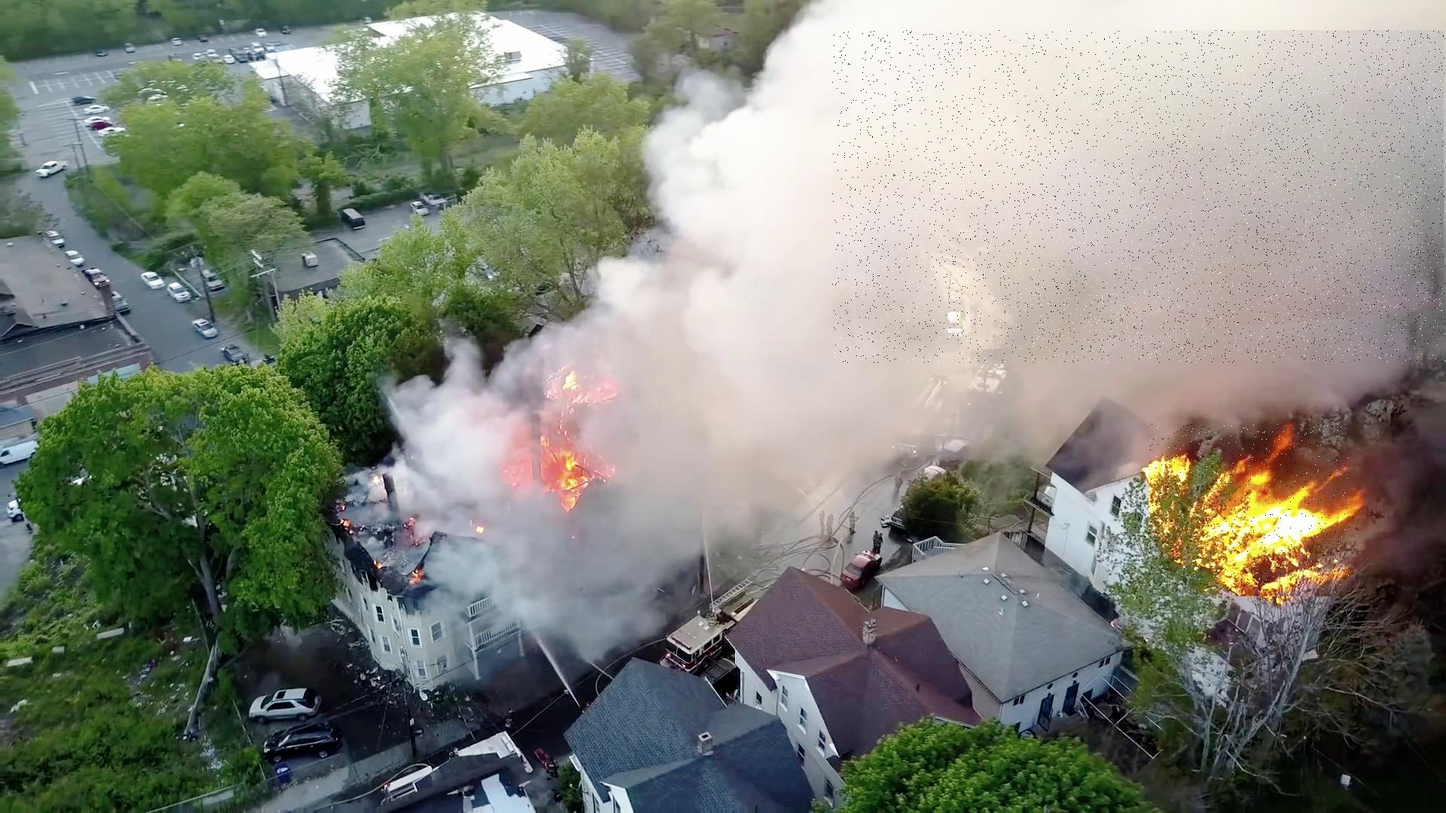fire: (1149, 424, 1350, 596)
smoke: (833, 31, 1446, 363)
